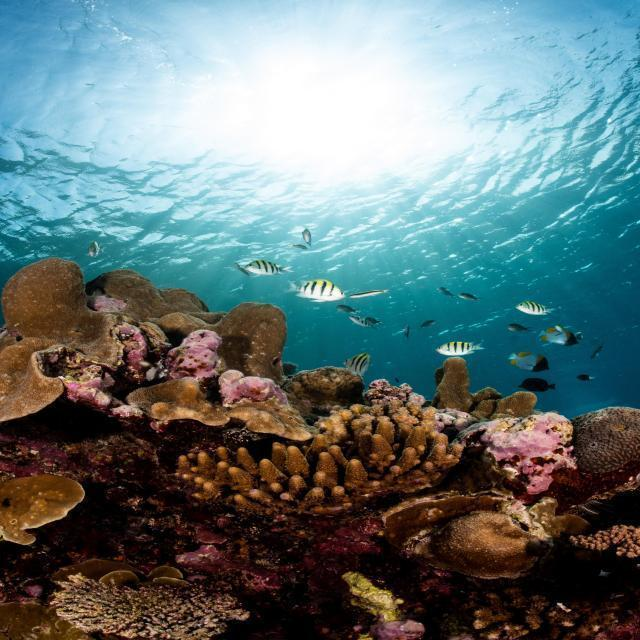Healthy Coral: (159, 407, 476, 510), (0, 259, 138, 427), (54, 568, 267, 640), (128, 365, 313, 441), (0, 474, 94, 549)
